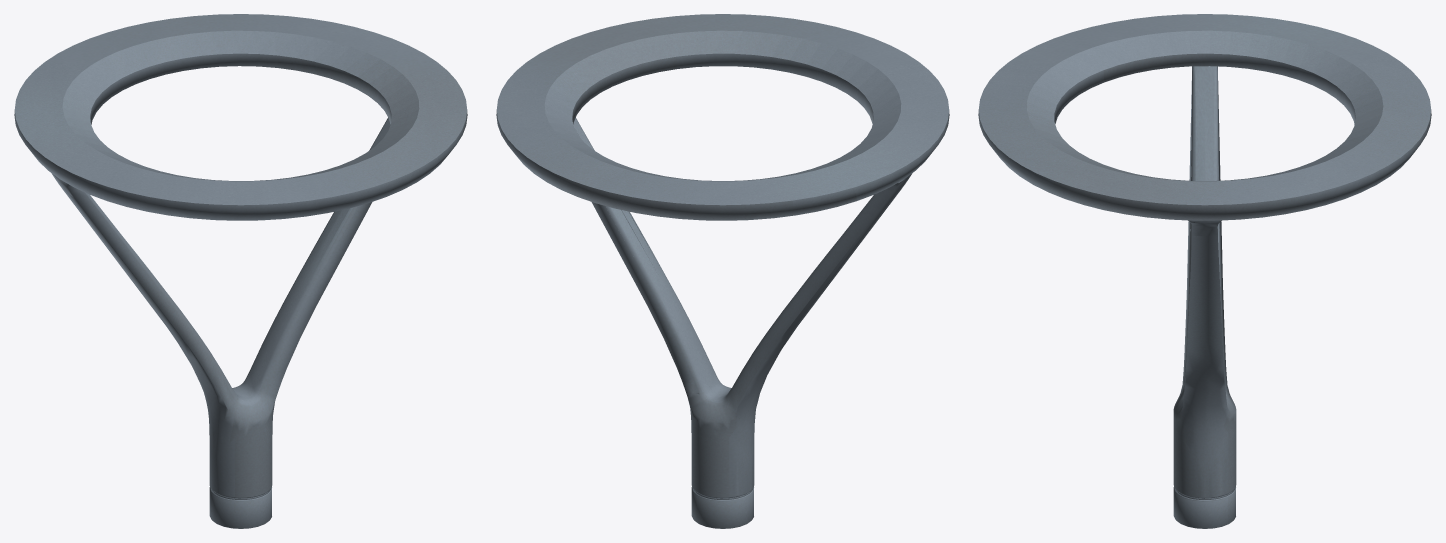
3 views of the same model, side by side, from view 1: azimuth 30°, elevation 25°; view 2: azimuth 150°, elevation 25°; view 3: azimuth 270°, elevation 25° (orthographic).
Parts seen in each view (by area): view 1: Siteco DL 20; view 2: Siteco DL 20; view 3: Siteco DL 20.
Part boxes in pixels (bbox=[...]): Siteco DL 20: bbox=[14, 14, 467, 528]; Siteco DL 20: bbox=[496, 14, 949, 528]; Siteco DL 20: bbox=[978, 14, 1431, 528].
Bounding box in the file's own units: 0.6904 × 0.6894 × 0.6904.
Materials: 3 (3 with a texture image).
